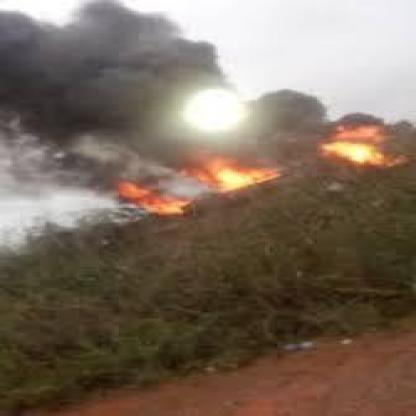fire: (312, 124, 400, 166), (186, 155, 281, 187), (113, 181, 187, 214)
other: (174, 85, 252, 129)
smoke: (6, 8, 186, 165), (257, 86, 334, 154)
